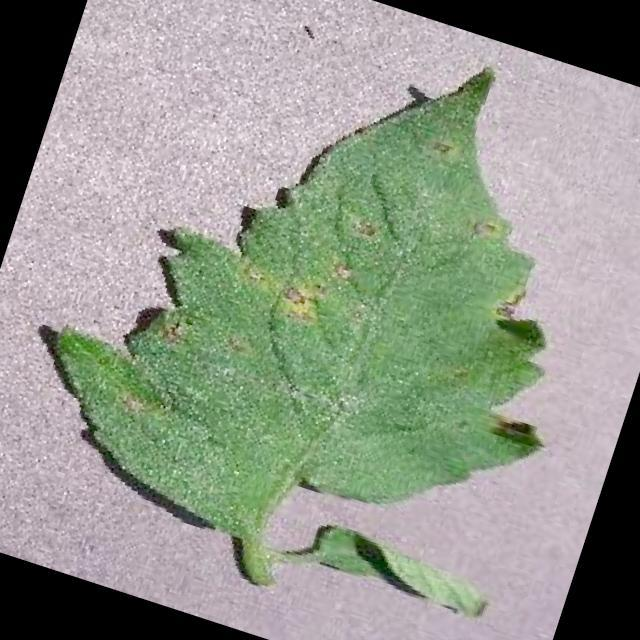Tomato Septoria spot leaf: (9, 0, 640, 619)
